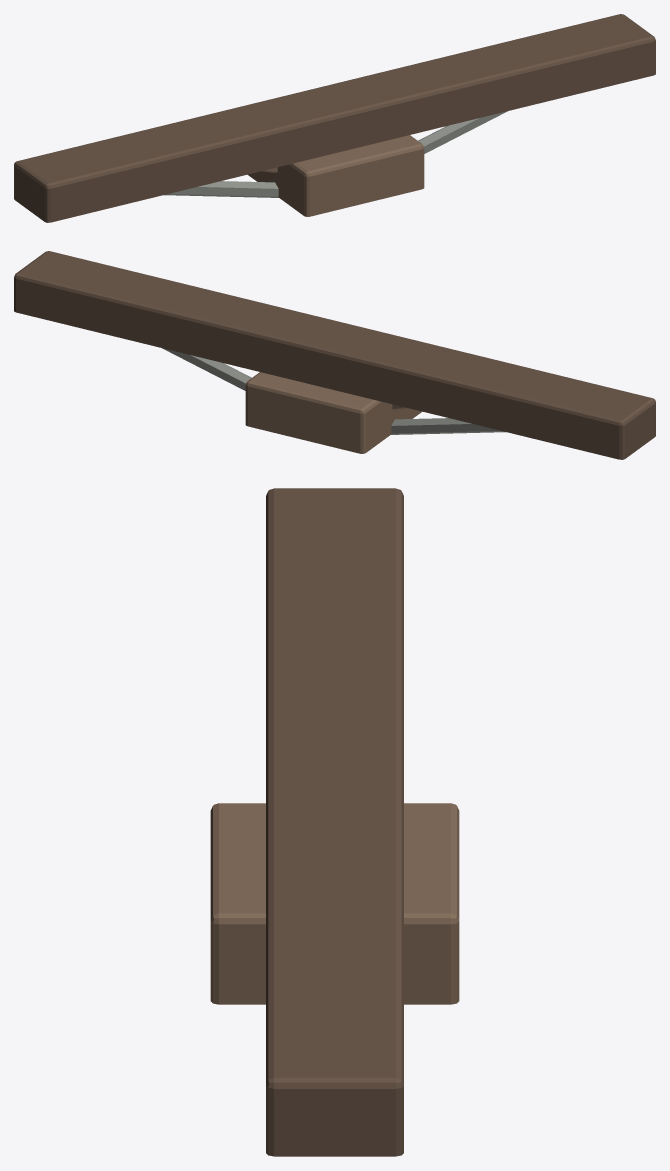
Rendered from rn2-floresta-bracket.glb.
The picture shows the model from 3 angles, top to bottom: view 1: azimuth 30°, elevation 25°; view 2: azimuth 150°, elevation 25°; view 3: azimuth 270°, elevation 25°; orthographic projection. The views are drawn at different scales.
Parts seen in each view (by area): view 1: rn2_floresta_bracket_body; view 2: rn2_floresta_bracket_body; view 3: rn2_floresta_bracket_body.
Boxes of the visible parts, x1,y1,x2,y2 form: rn2_floresta_bracket_body: [14, 14, 655, 222]; rn2_floresta_bracket_body: [14, 251, 655, 459]; rn2_floresta_bracket_body: [210, 488, 459, 1156].
Size of the model in its own units: 10.2 by 1.37 by 1.8.
